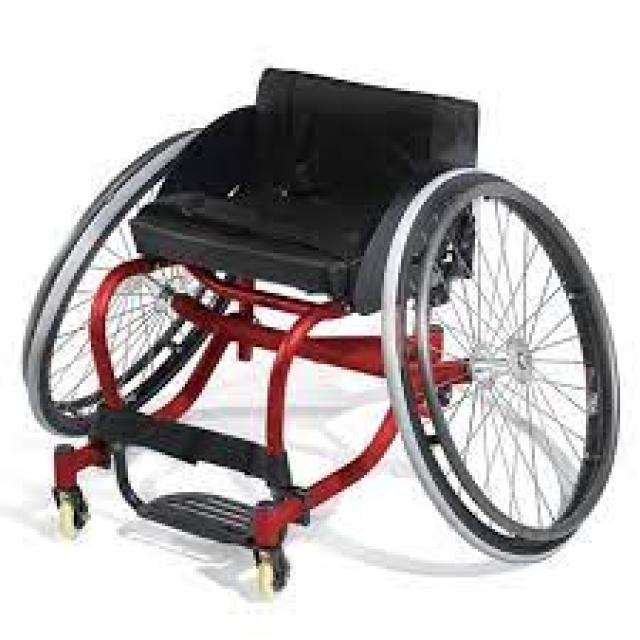wheelchairs: (23, 43, 626, 603)
